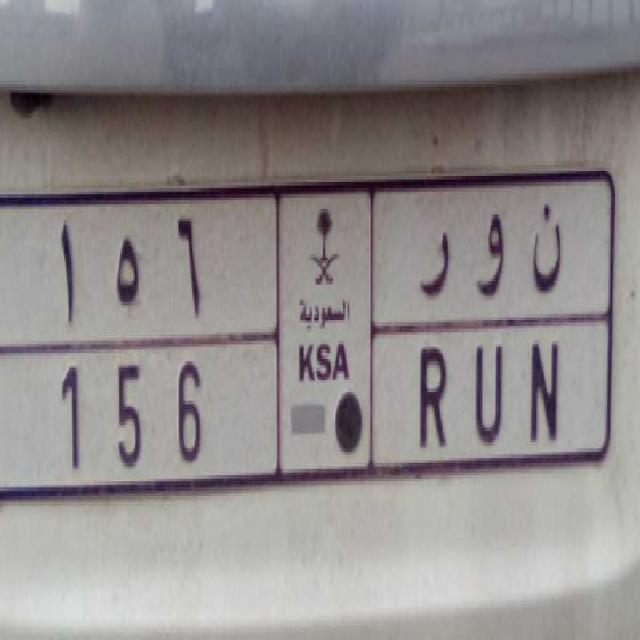license_plate: (4, 318, 590, 494)
